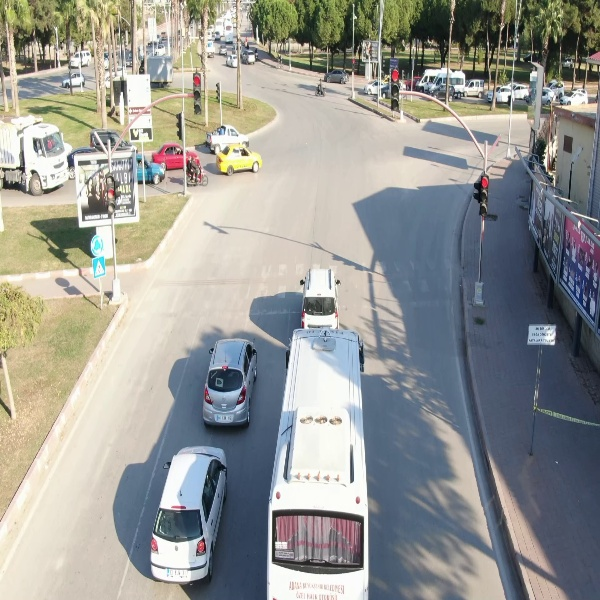car: (148, 444, 233, 585), (201, 337, 262, 431), (214, 141, 265, 177), (485, 85, 519, 104), (560, 89, 590, 106), (62, 72, 88, 90), (324, 68, 351, 85)
